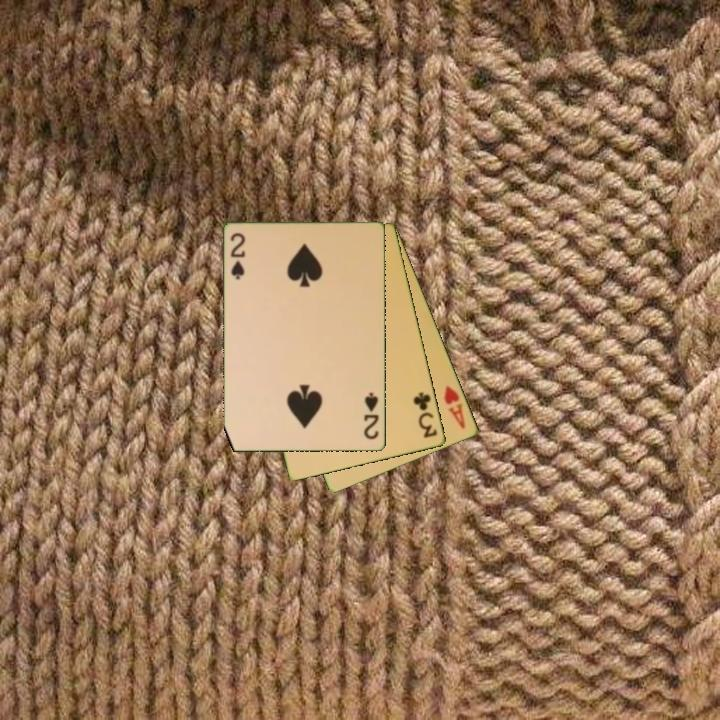2s: (361, 389, 382, 442), (227, 230, 248, 282)
3c: (410, 388, 440, 441)
Ah: (441, 382, 468, 432)
